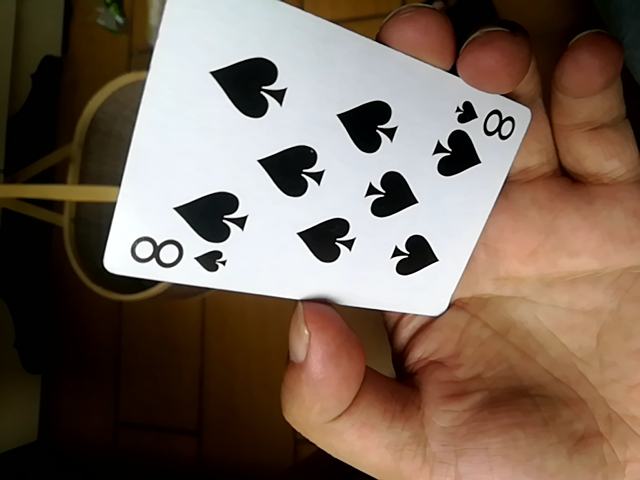ht 8: (109, 2, 535, 328)
